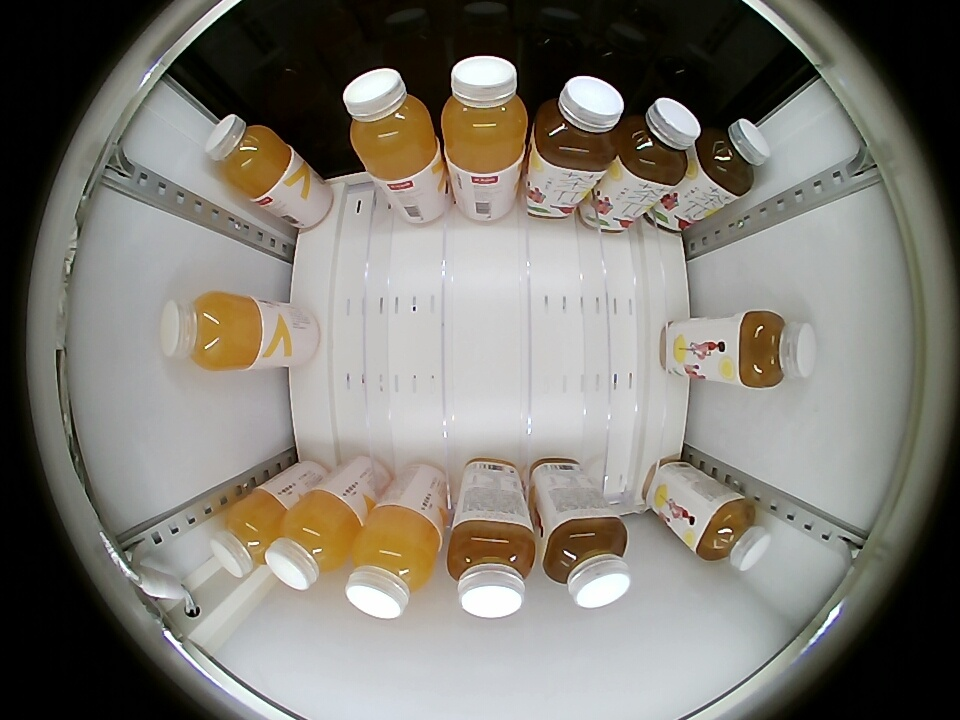chapai: (531, 75, 624, 175), (446, 517, 537, 618), (541, 516, 631, 608), (614, 98, 701, 186), (734, 311, 817, 389), (693, 493, 771, 571), (696, 118, 771, 197)
weic: (345, 506, 442, 619), (343, 68, 440, 177), (441, 55, 529, 170), (266, 490, 362, 590), (158, 291, 267, 372), (205, 114, 291, 200), (211, 490, 288, 578)
